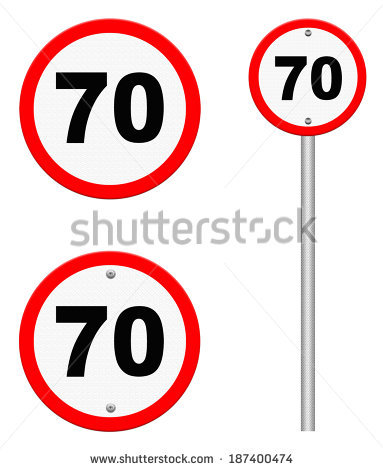Speed_limit_70km: (21, 18, 203, 199), (19, 252, 201, 432), (248, 18, 367, 137)
